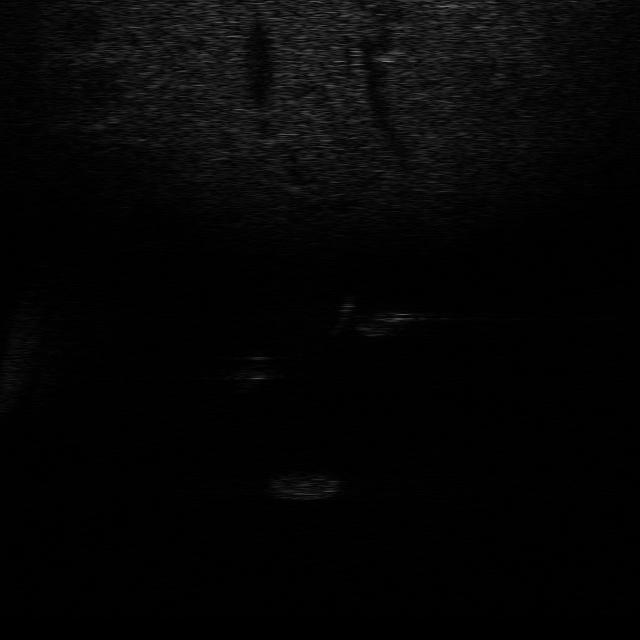ball: (225, 350, 286, 382)
circle cage: (266, 462, 342, 505)
human body: (328, 288, 418, 339)
